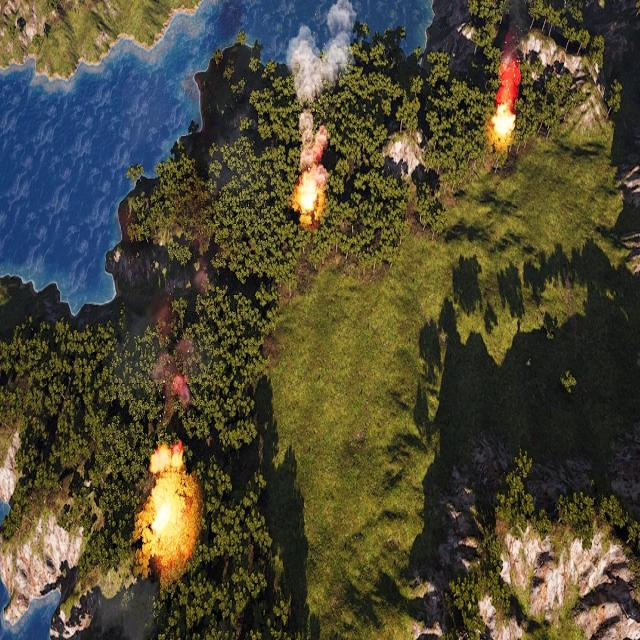fire: (142, 441, 196, 566), (293, 166, 326, 219), (490, 107, 520, 141)
smoke: (288, 0, 360, 164), (148, 303, 191, 437), (496, 0, 532, 105)
